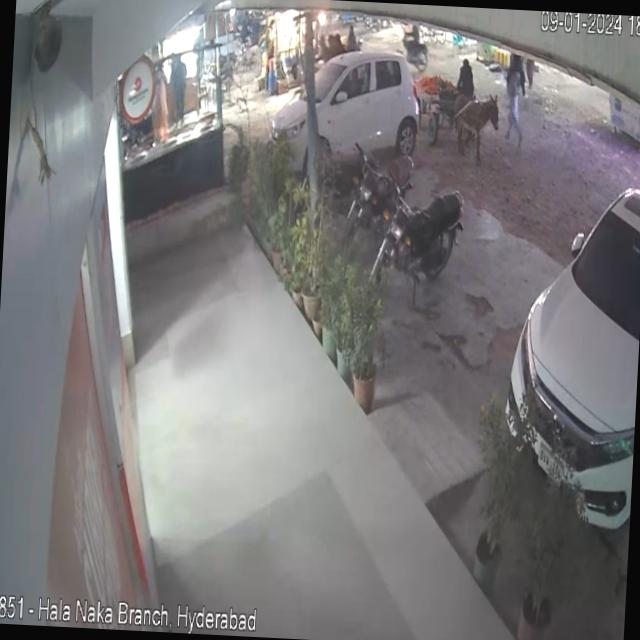Car: (497, 135, 640, 544), (248, 30, 428, 166)
Motorcycle: (358, 180, 470, 293), (348, 140, 422, 242)
